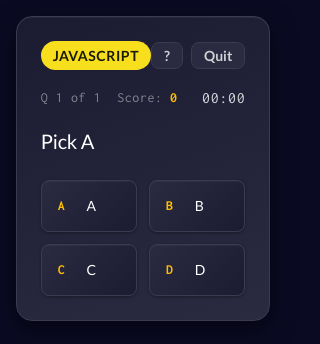
App component › clicking a correct MC option shows FeedbackFlash with correct styling
Step 1. Click the button named "option A: A" → [89, 206], box [41, 180, 137, 232]
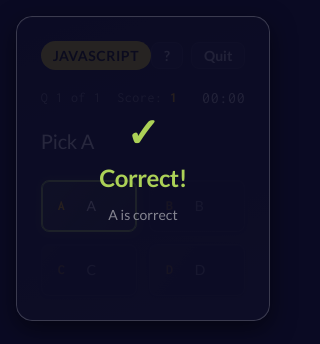
expect the text "Correct!" is shown: met, box [99, 160, 187, 196]
